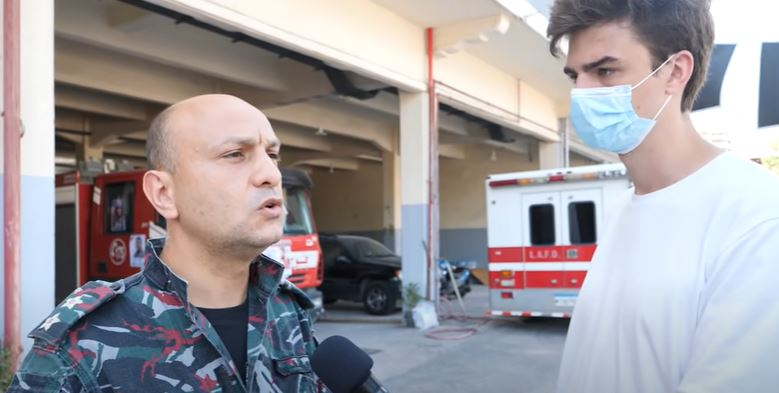with_mask: (571, 46, 643, 144)
without_mask: (196, 129, 285, 236)
